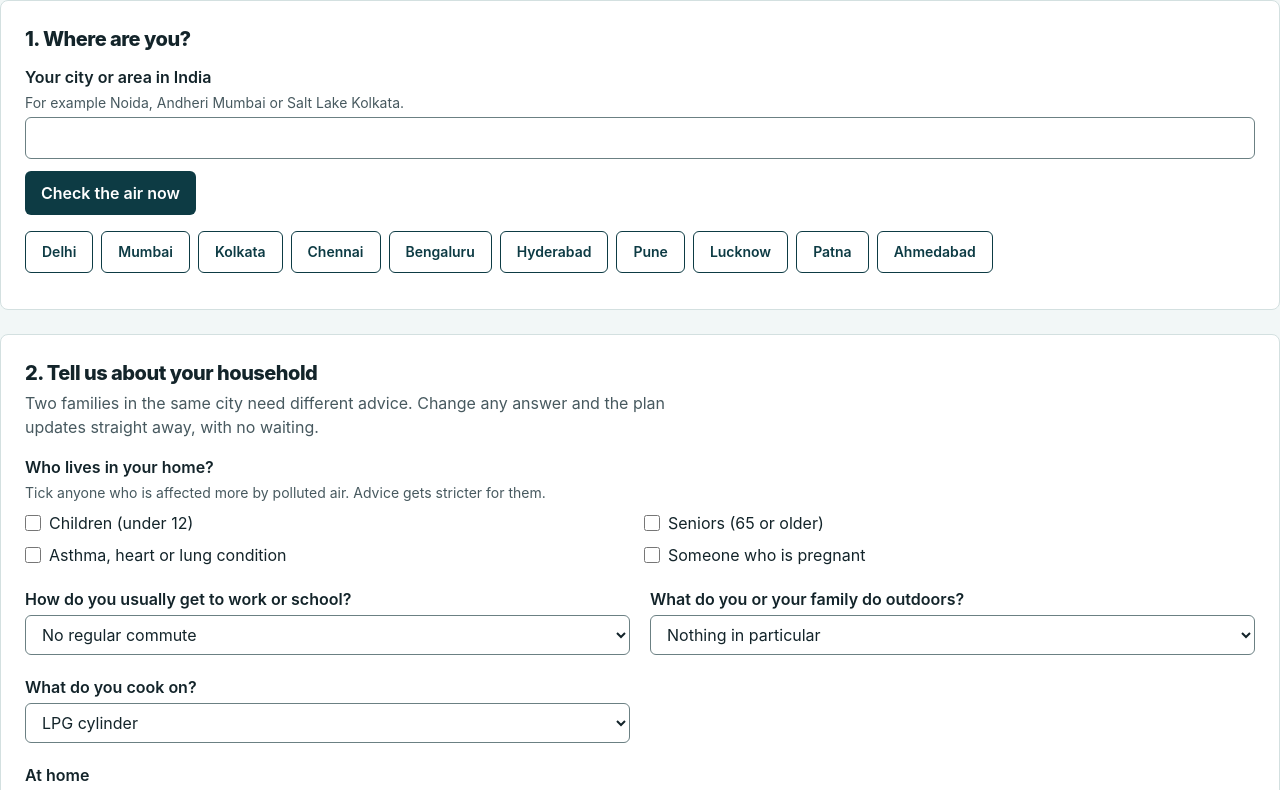
Test: checking the air › asks for a place instead of sending an empty request
Step 1. Click the button "Check the air now" → (110, 193), box top-left (25, 171), bottom-right (196, 215)
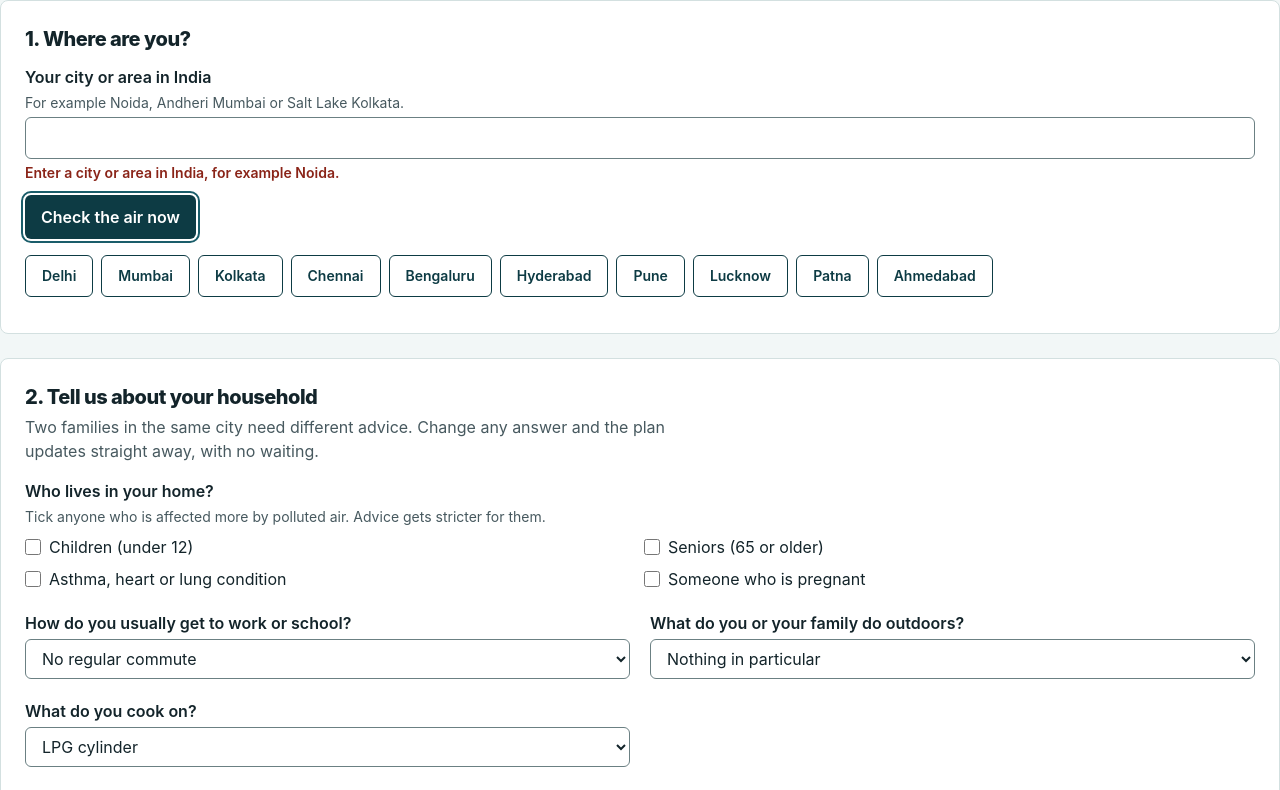
Check: the text "Enter a city or area in India, for example Noida." is shown, box top-left (25, 164), bottom-right (339, 181)
